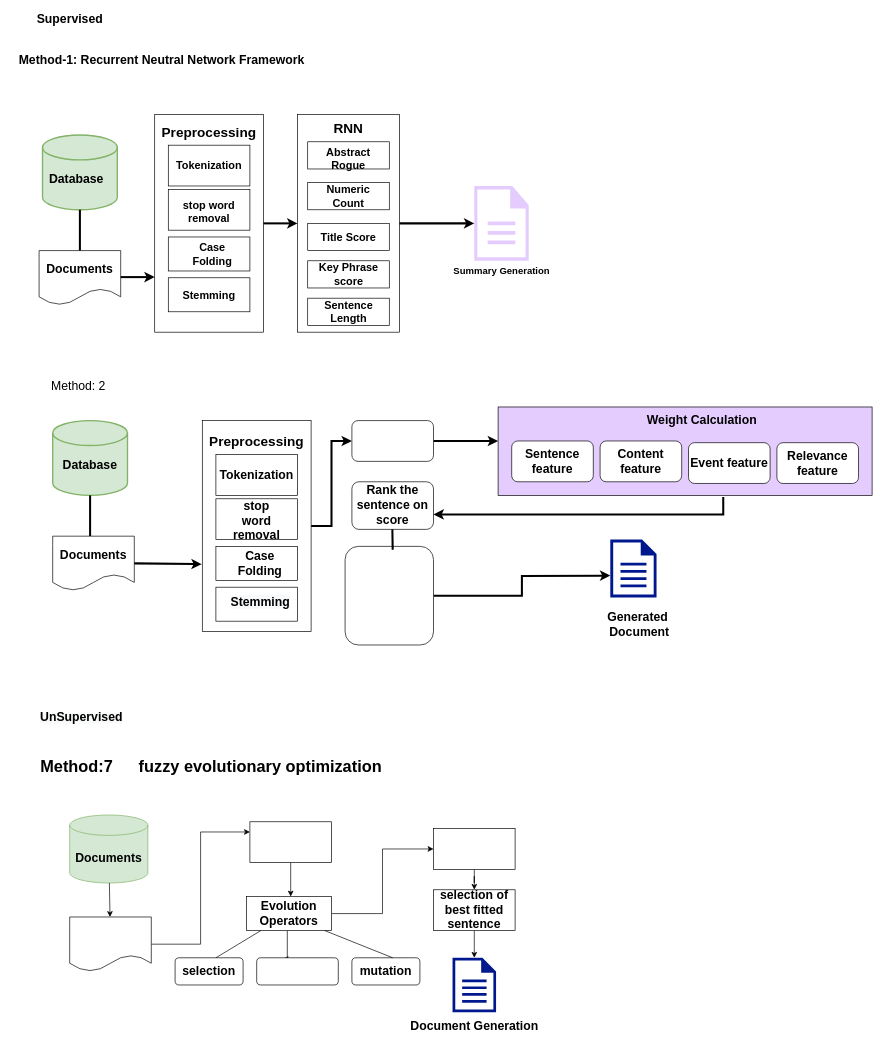
Some shapes in this 884 by 1047 pixel diagram are drawn without their labels. Each missing label, with the centre of its shape:
"Calculated weight of charcteristics" belongs at point 392,440.
"crossover" belongs at point 297,971.
"Document" belongs at point 110,943.
"object assigned to clusters" belongs at point 290,842.
"probability of operators" belongs at point 474,848.
"removal of sentence on the basis of score (Position Score)" belongs at point 389,595.
